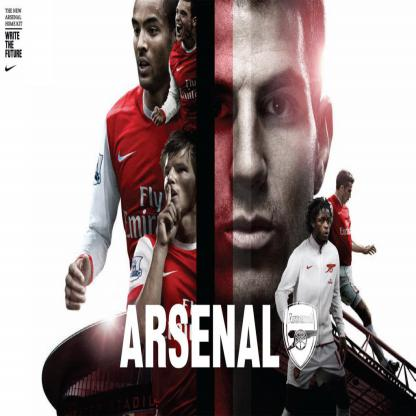face: (196, 2, 317, 298), (133, 1, 173, 88), (164, 149, 196, 218), (176, 1, 194, 42), (316, 209, 332, 243), (342, 182, 354, 205)
